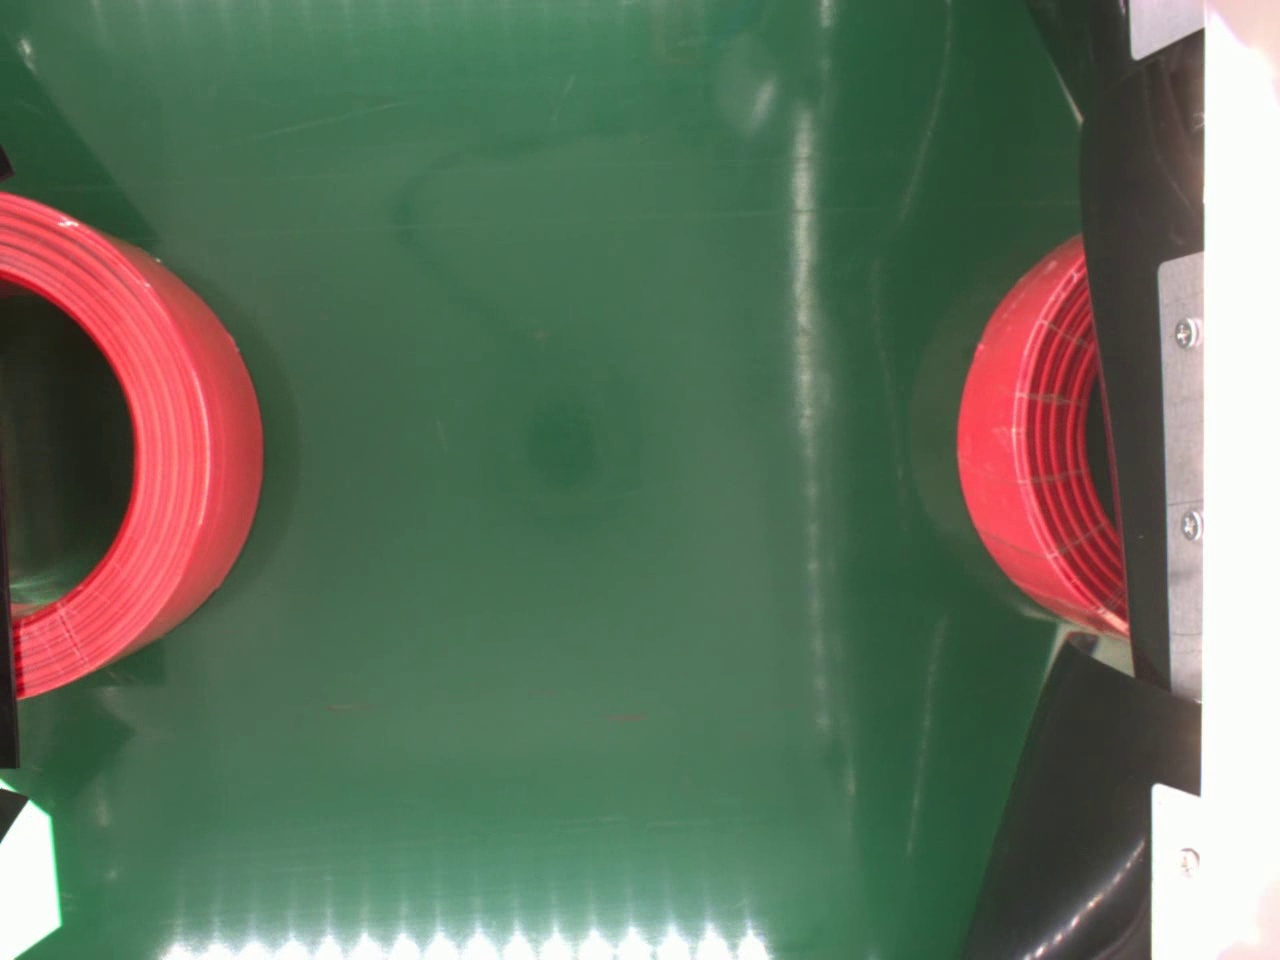red: (0, 190, 271, 697), (959, 235, 1127, 638)
